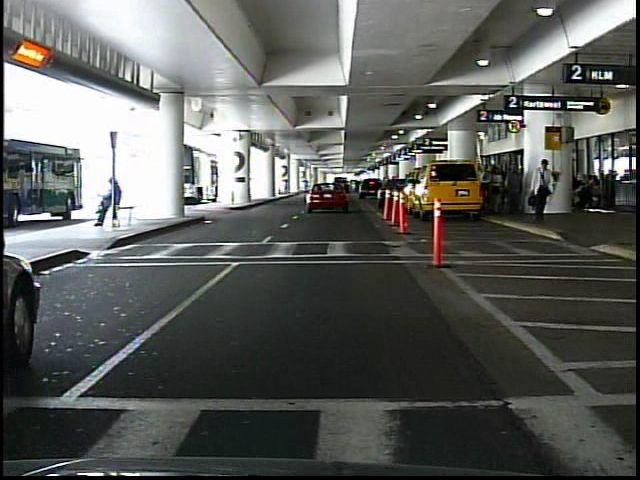person: (527, 158, 556, 219), (507, 163, 525, 219), (490, 166, 504, 213)
